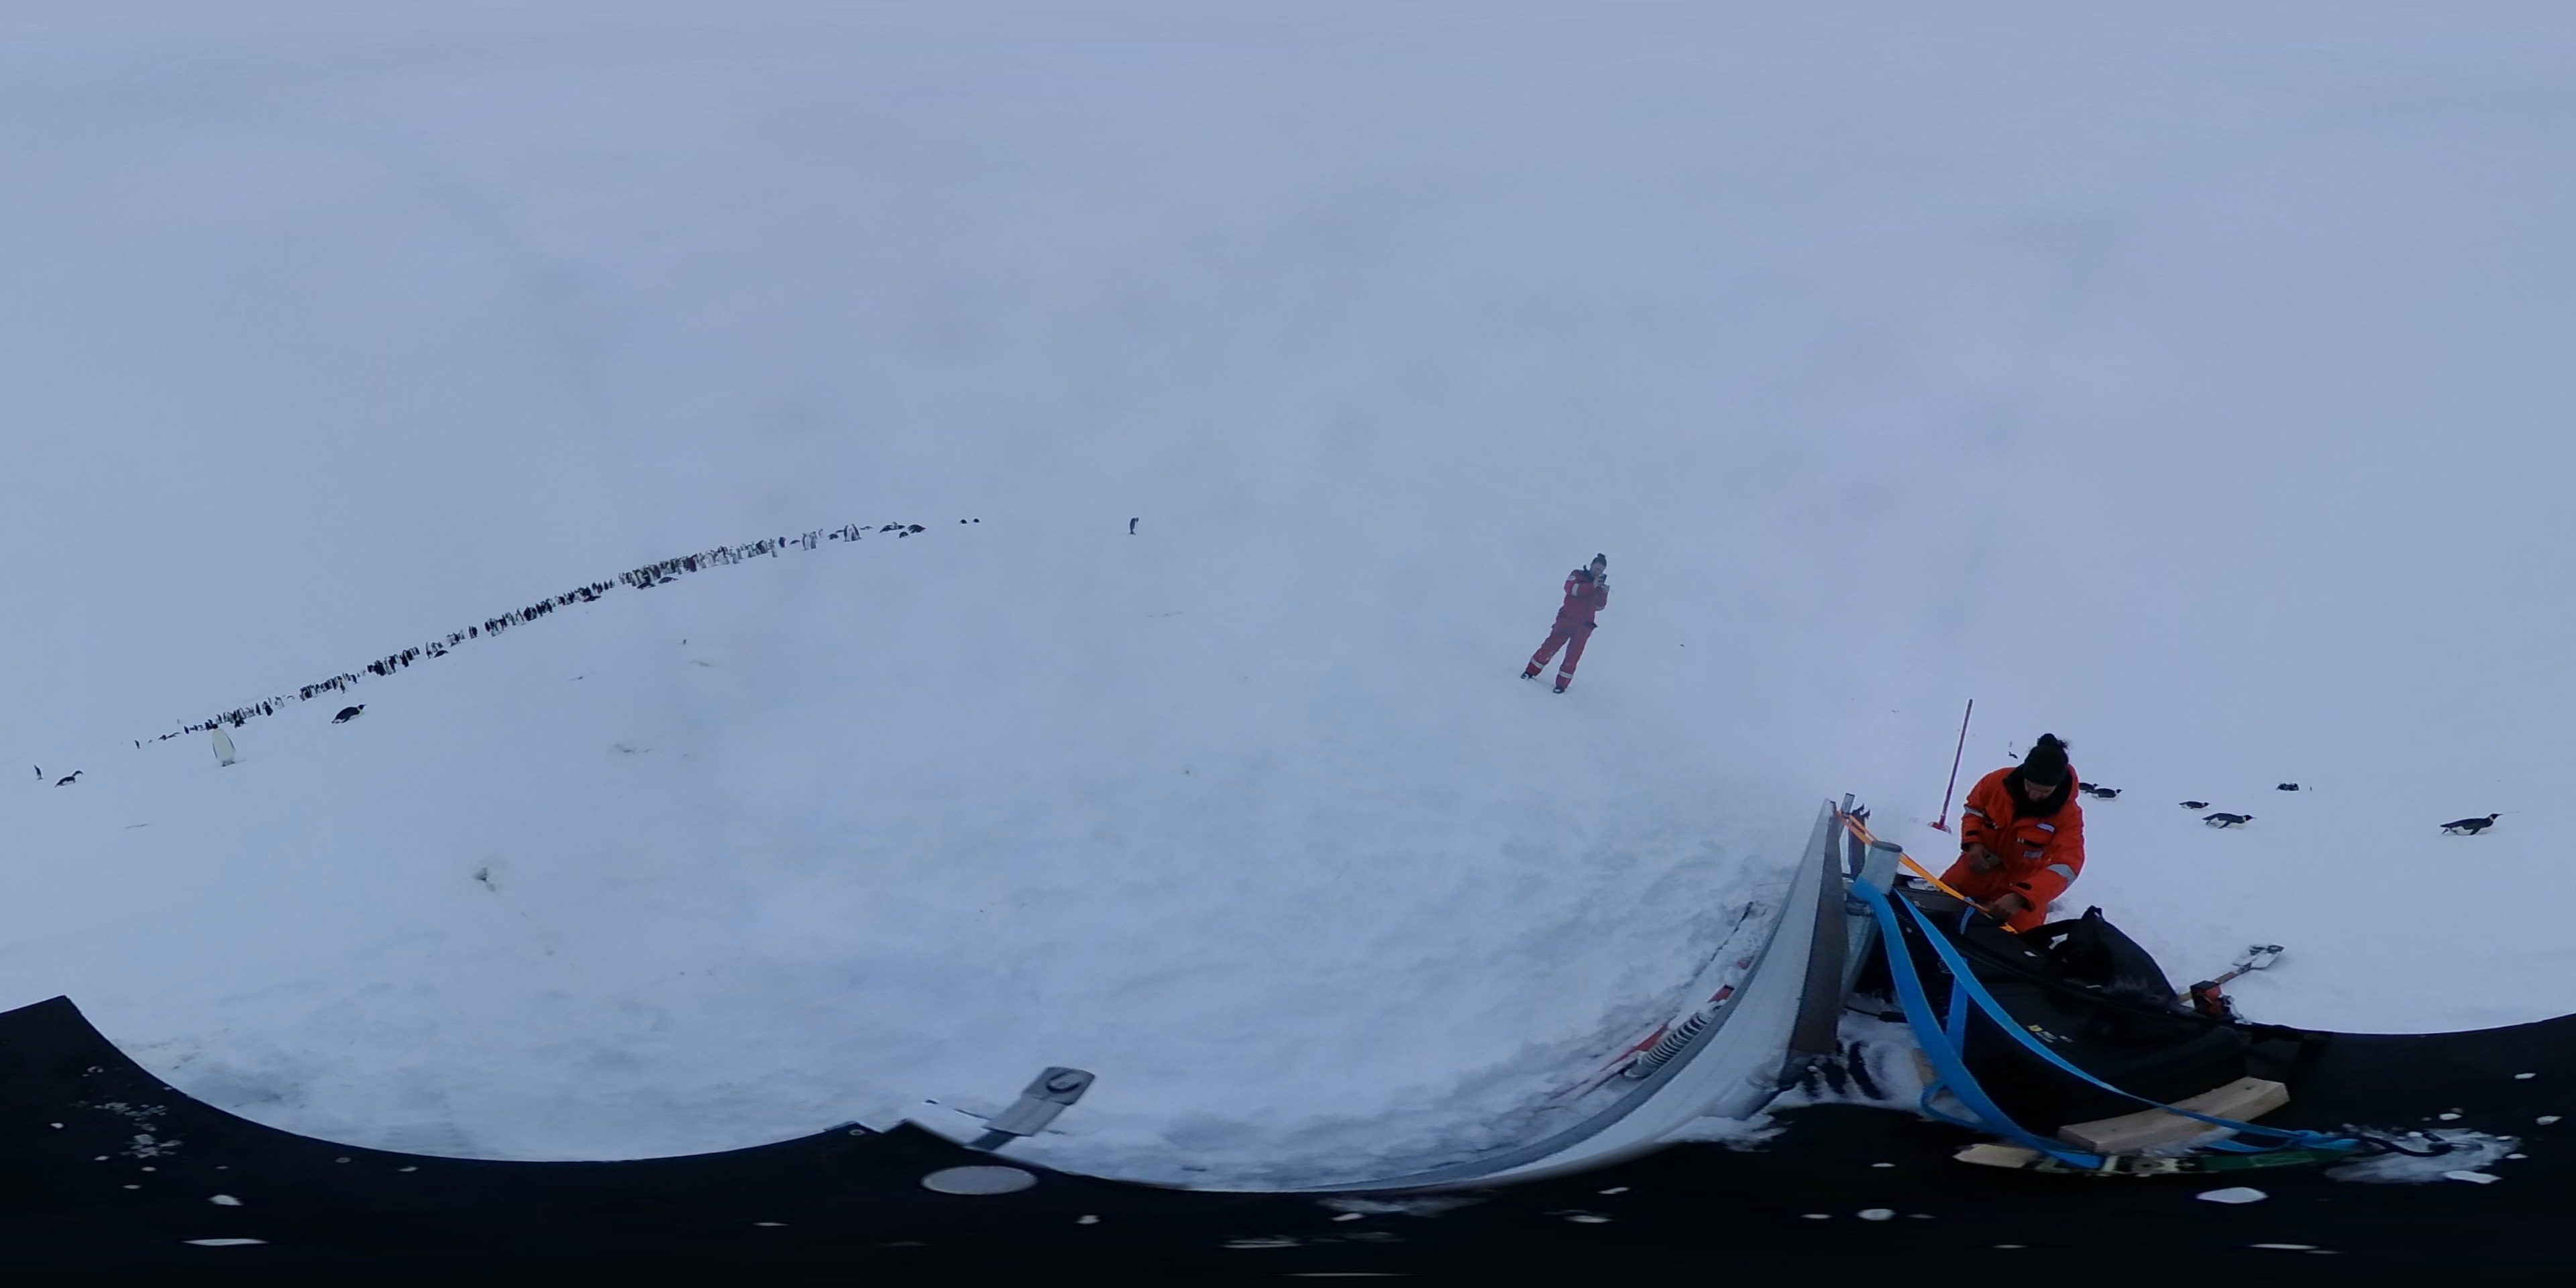adult_standing_penguin: (205, 716, 246, 770), (1125, 511, 1140, 536)
adult_toboggan_penguin: (2431, 810, 2505, 843), (2196, 812, 2262, 836), (327, 701, 368, 728), (48, 769, 84, 789), (2088, 784, 2126, 800), (2175, 798, 2211, 815)
researcher: (1929, 731, 2088, 938), (1516, 545, 1615, 701)
